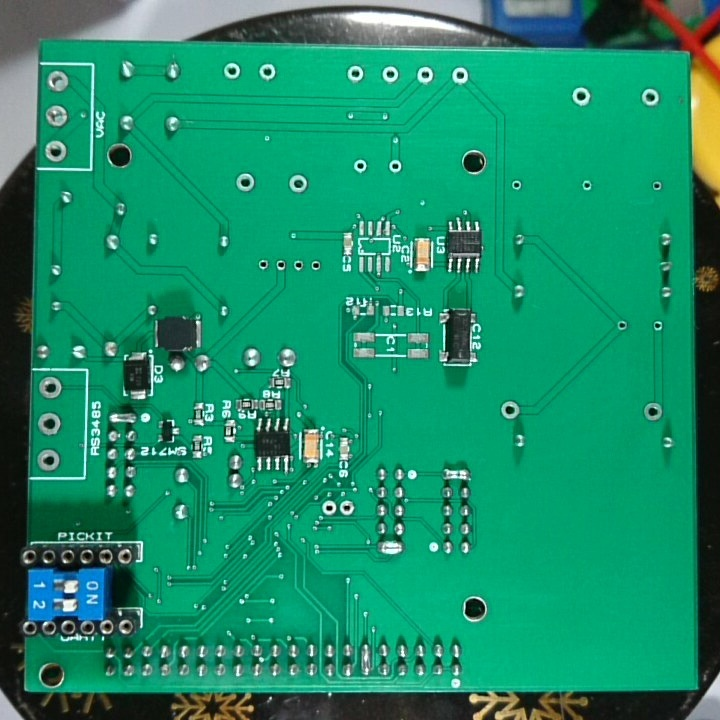F: (36, 372, 64, 403), (41, 104, 72, 132), (36, 410, 63, 439), (44, 68, 71, 97), (42, 138, 70, 165), (35, 446, 62, 473), (570, 83, 595, 112), (640, 399, 668, 424), (232, 170, 258, 196), (447, 63, 473, 89), (256, 60, 281, 85), (638, 85, 664, 109), (498, 399, 523, 422), (343, 63, 367, 86), (379, 63, 402, 86), (287, 172, 307, 198), (221, 60, 243, 83), (414, 63, 435, 87), (349, 155, 370, 178), (318, 498, 338, 520), (336, 499, 356, 519), (386, 157, 404, 178), (273, 255, 288, 278), (507, 175, 525, 194), (579, 175, 596, 195), (291, 255, 306, 276), (307, 257, 322, 278), (650, 178, 667, 195), (614, 316, 629, 335), (650, 317, 665, 335), (256, 256, 270, 274)
P: (439, 463, 473, 483), (358, 639, 374, 679), (375, 537, 405, 558), (106, 409, 141, 427)
